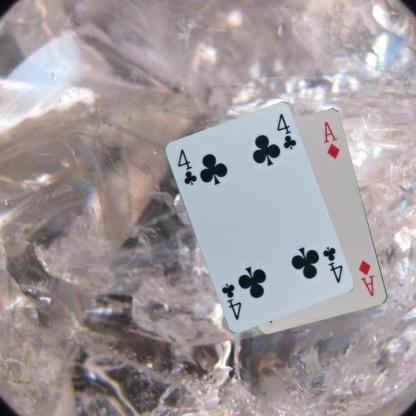4c: (319, 244, 344, 284), (175, 146, 198, 187)
Ad: (356, 258, 376, 298)
